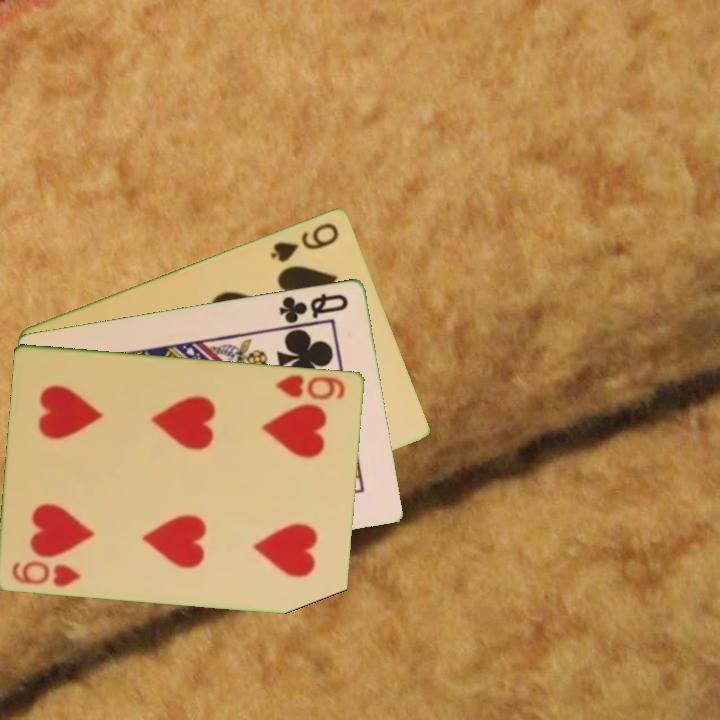6h: (9, 556, 84, 590), (273, 370, 348, 403)
9s: (267, 218, 342, 265)
Qc: (276, 289, 352, 326)
